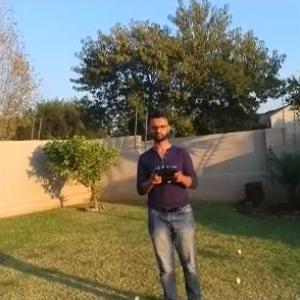follow: (133, 106, 204, 299)
